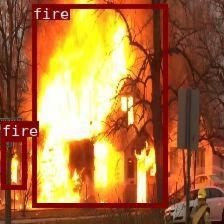fire: (31, 4, 166, 206), (0, 136, 26, 188)
